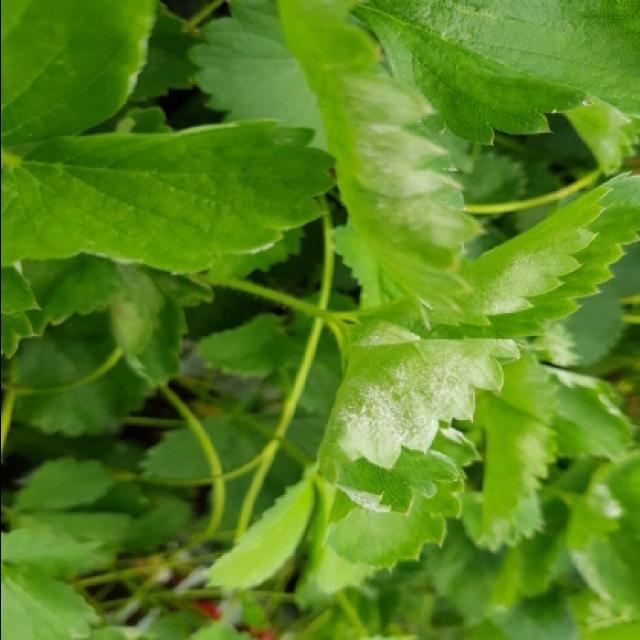Powdery Mildew Leaf: (278, 0, 484, 331), (317, 317, 521, 517), (428, 170, 640, 338), (563, 449, 640, 623), (539, 361, 635, 463)
